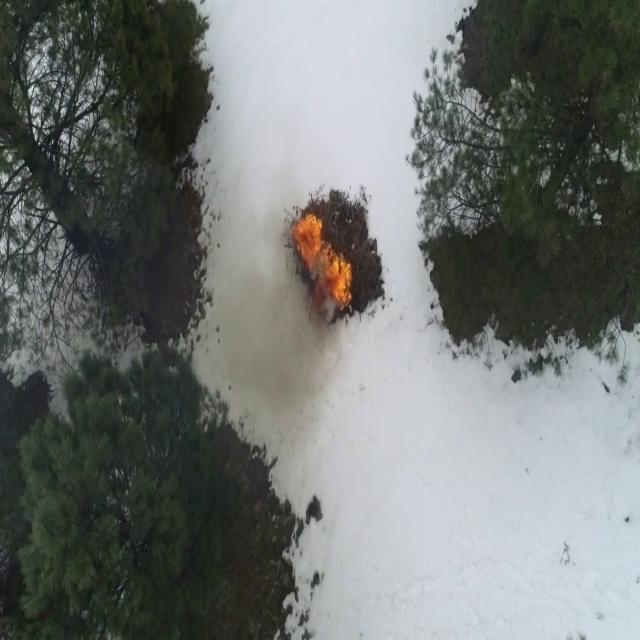fire: (292, 214, 351, 312)
